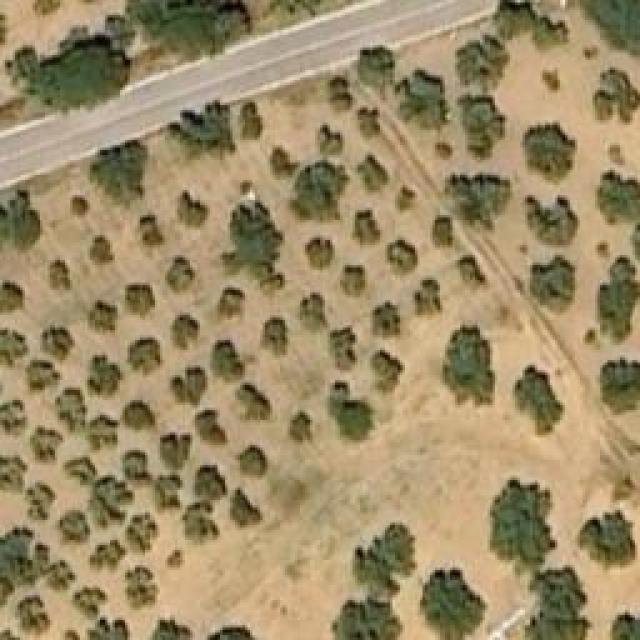Tree: (5, 27, 130, 115), (124, 0, 256, 59), (225, 200, 285, 295), (490, 478, 555, 563), (520, 565, 593, 640), (417, 563, 488, 636), (595, 170, 640, 268), (353, 520, 414, 592), (443, 325, 496, 405), (167, 100, 235, 160), (595, 255, 640, 345), (575, 510, 638, 573), (288, 163, 351, 223), (493, 0, 568, 50), (595, 350, 640, 433), (183, 465, 228, 545), (523, 120, 578, 185), (390, 73, 450, 132), (515, 363, 563, 433), (450, 173, 510, 228), (73, 585, 133, 640), (457, 95, 505, 163), (575, 0, 640, 50), (0, 528, 52, 590), (90, 140, 145, 198), (458, 35, 508, 98), (330, 597, 400, 640), (325, 383, 375, 443), (592, 68, 640, 128), (0, 189, 42, 252), (528, 197, 578, 245), (530, 255, 575, 303), (355, 47, 398, 92), (90, 480, 128, 528), (163, 368, 208, 408), (328, 328, 369, 370), (123, 568, 158, 611), (370, 348, 403, 393), (452, 255, 490, 293), (128, 338, 163, 378), (18, 598, 53, 638), (175, 190, 210, 228), (170, 312, 205, 350), (235, 382, 270, 420), (193, 410, 228, 448), (230, 488, 263, 528), (165, 250, 195, 293), (30, 425, 63, 463), (135, 210, 165, 249), (213, 340, 246, 375), (373, 302, 403, 340), (413, 277, 443, 315), (238, 100, 265, 142), (27, 483, 55, 523), (0, 398, 28, 438), (385, 240, 418, 273), (235, 445, 268, 478), (0, 327, 28, 365), (0, 455, 28, 493), (127, 515, 155, 553), (25, 360, 60, 390), (90, 355, 120, 390), (55, 393, 85, 428), (215, 288, 245, 321), (90, 418, 120, 451), (158, 435, 188, 468), (267, 145, 295, 180), (263, 315, 288, 353), (315, 123, 343, 156), (85, 305, 118, 333), (38, 330, 71, 358), (122, 453, 150, 486), (303, 238, 333, 268), (607, 612, 640, 639), (302, 292, 326, 329), (356, 108, 384, 139), (207, 622, 255, 640), (145, 620, 190, 639), (123, 285, 153, 313), (355, 210, 380, 243), (340, 265, 365, 298), (363, 158, 388, 191), (120, 405, 153, 430), (158, 475, 183, 508), (60, 512, 88, 540), (90, 545, 120, 570), (430, 220, 455, 248), (328, 82, 353, 110), (62, 460, 90, 485), (290, 413, 313, 443), (50, 558, 72, 588), (68, 195, 91, 222), (88, 240, 113, 263), (45, 263, 68, 288), (0, 283, 20, 308), (432, 140, 452, 162), (542, 70, 560, 93), (395, 190, 413, 210)
